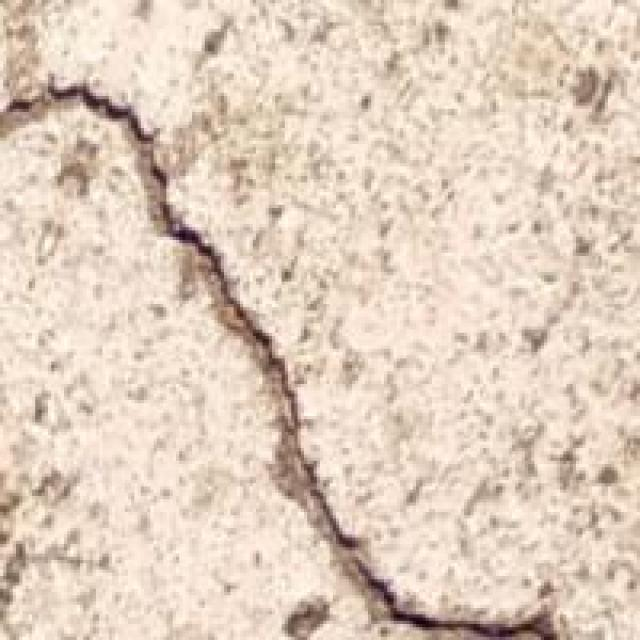Crack: (0, 54, 579, 637)
